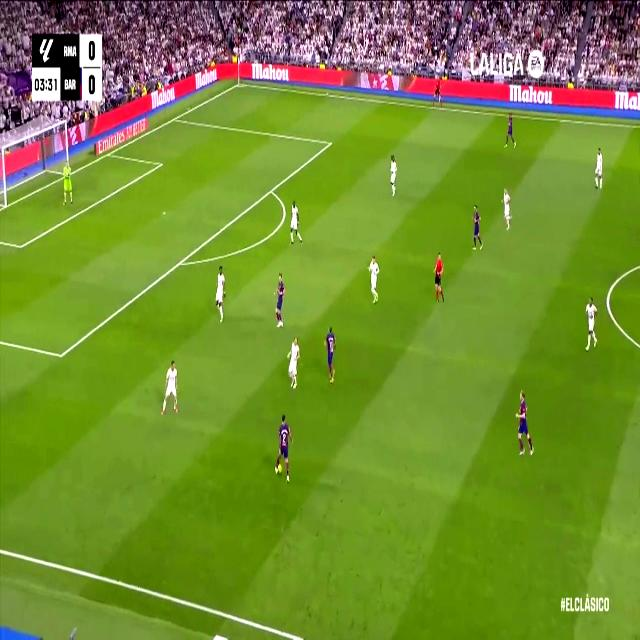bigarea_bottom_inner: (56, 342, 66, 368)
bigarea_top_inner: (326, 134, 334, 150)
bigarea_top_outter: (172, 112, 178, 124)
bottom_arc_area_intersection: (175, 253, 185, 271)
corner: (234, 76, 244, 89)
smallarea_bottom_inner: (16, 237, 25, 255)
smallarea_top_inner: (159, 158, 163, 168)
top_arc_area_intersection: (267, 182, 275, 198)
